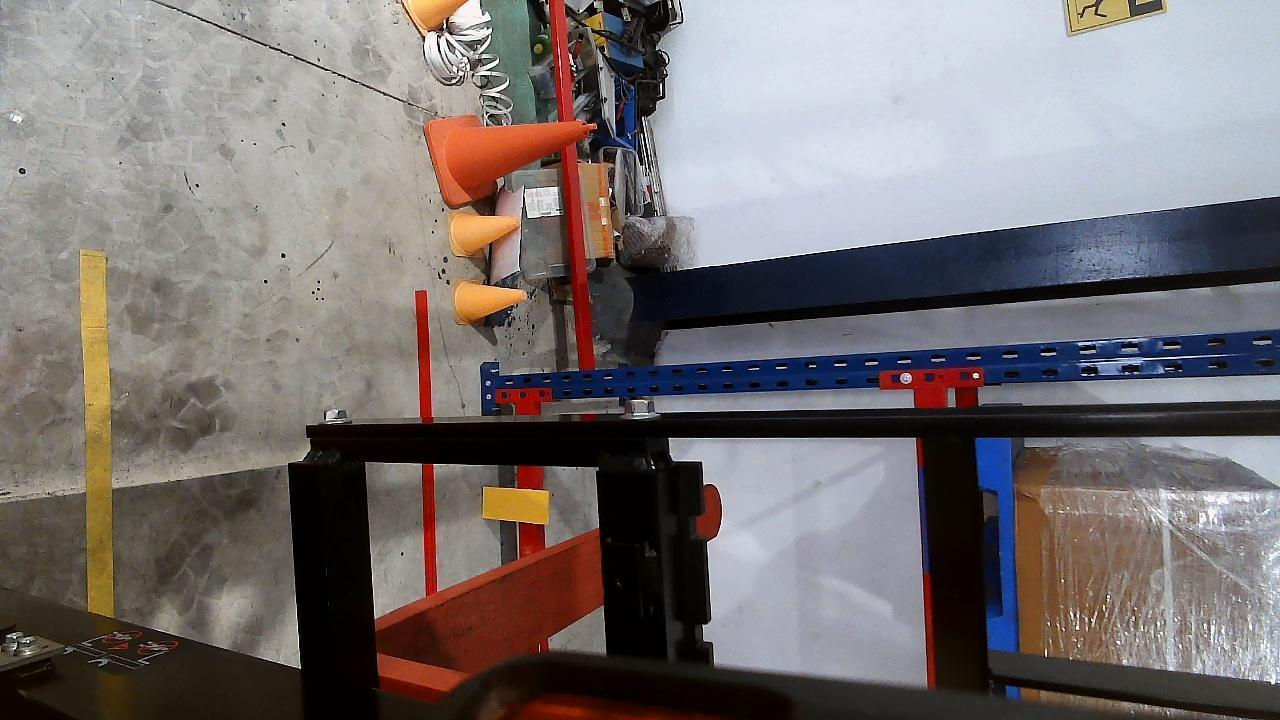red_line: (411, 291, 440, 594)
yellow_line: (79, 250, 114, 615)
